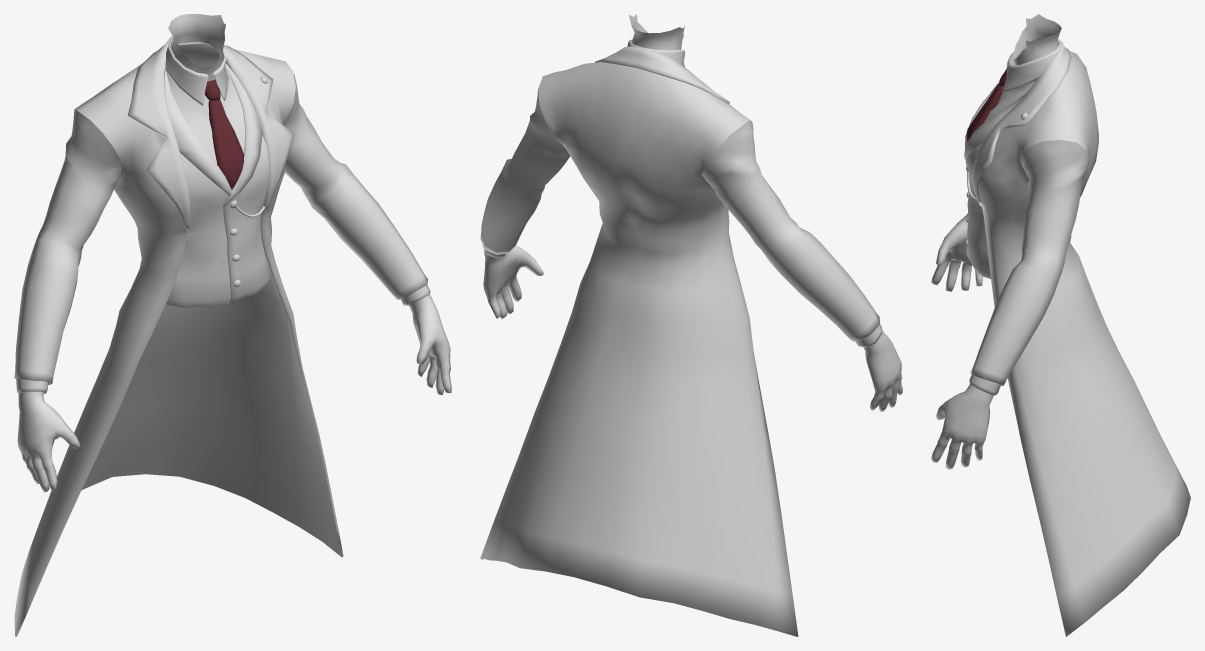
File: top.fbx
3 views of the same model, side by side, from view 1: azimuth 30°, elevation 25°; view 2: azimuth 150°, elevation 25°; view 3: azimuth 270°, elevation 25° (orthographic). The views are drawn at different scales.
Visible parts, largest first — view 1: 002; view 2: 002; view 3: 002.
Part boxes in pixels (box(x1,y1,x2,y2)): 002: box(14, 14, 451, 636); 002: box(480, 14, 902, 636); 002: box(931, 14, 1190, 636).
Bounding box in the file's own units: 107 × 143 × 62.47.
